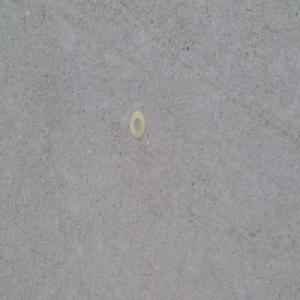Washer: (129, 110, 145, 140)
